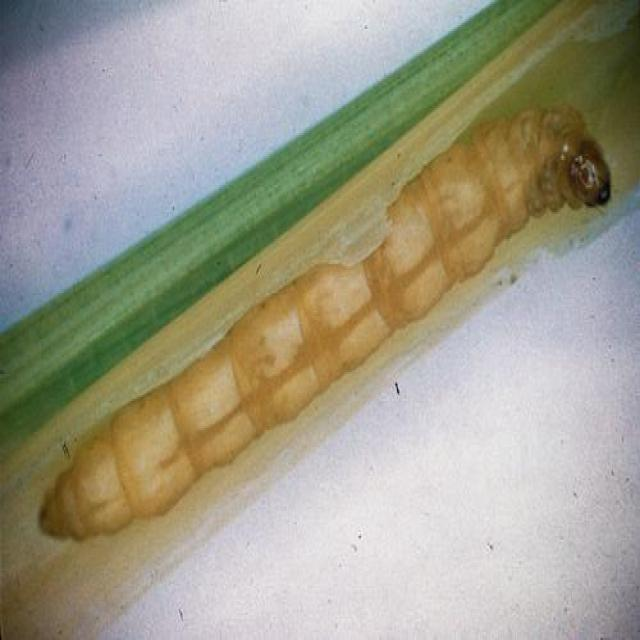yellow-stem-borer-larva: (51, 83, 628, 566)
